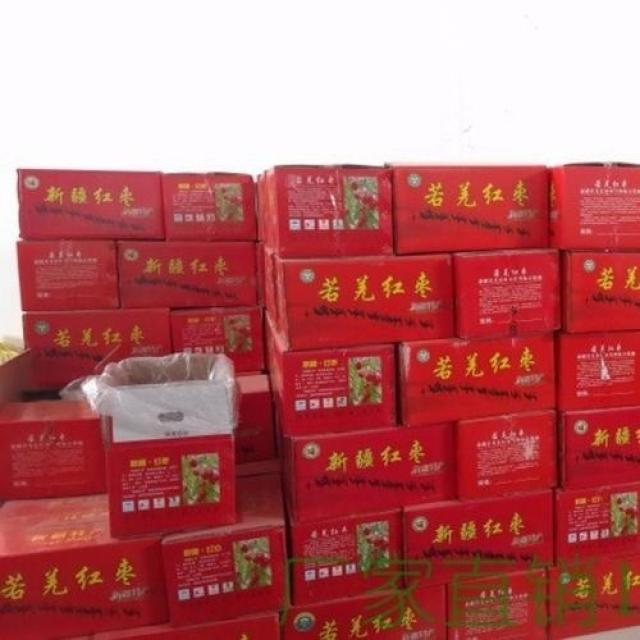box: (59, 353, 242, 539), (0, 492, 168, 639), (272, 414, 456, 524), (162, 472, 289, 627), (273, 252, 455, 351), (266, 307, 396, 437), (0, 349, 106, 499), (281, 478, 404, 606), (401, 488, 553, 589), (396, 332, 555, 428), (392, 165, 549, 254), (22, 307, 172, 388), (268, 164, 393, 258), (17, 168, 165, 239), (451, 248, 561, 340), (115, 239, 259, 309), (454, 408, 557, 501), (273, 584, 447, 639), (548, 161, 639, 252), (546, 553, 639, 639), (548, 480, 639, 567), (552, 406, 639, 491), (550, 328, 639, 411), (446, 567, 547, 639), (17, 239, 119, 310), (558, 249, 639, 333), (161, 172, 256, 241), (170, 306, 264, 372), (92, 611, 279, 639), (234, 375, 274, 463), (262, 241, 277, 330), (261, 169, 273, 253), (235, 459, 281, 477), (255, 239, 266, 307), (254, 174, 262, 241), (60, 634, 92, 639), (235, 371, 262, 376)
